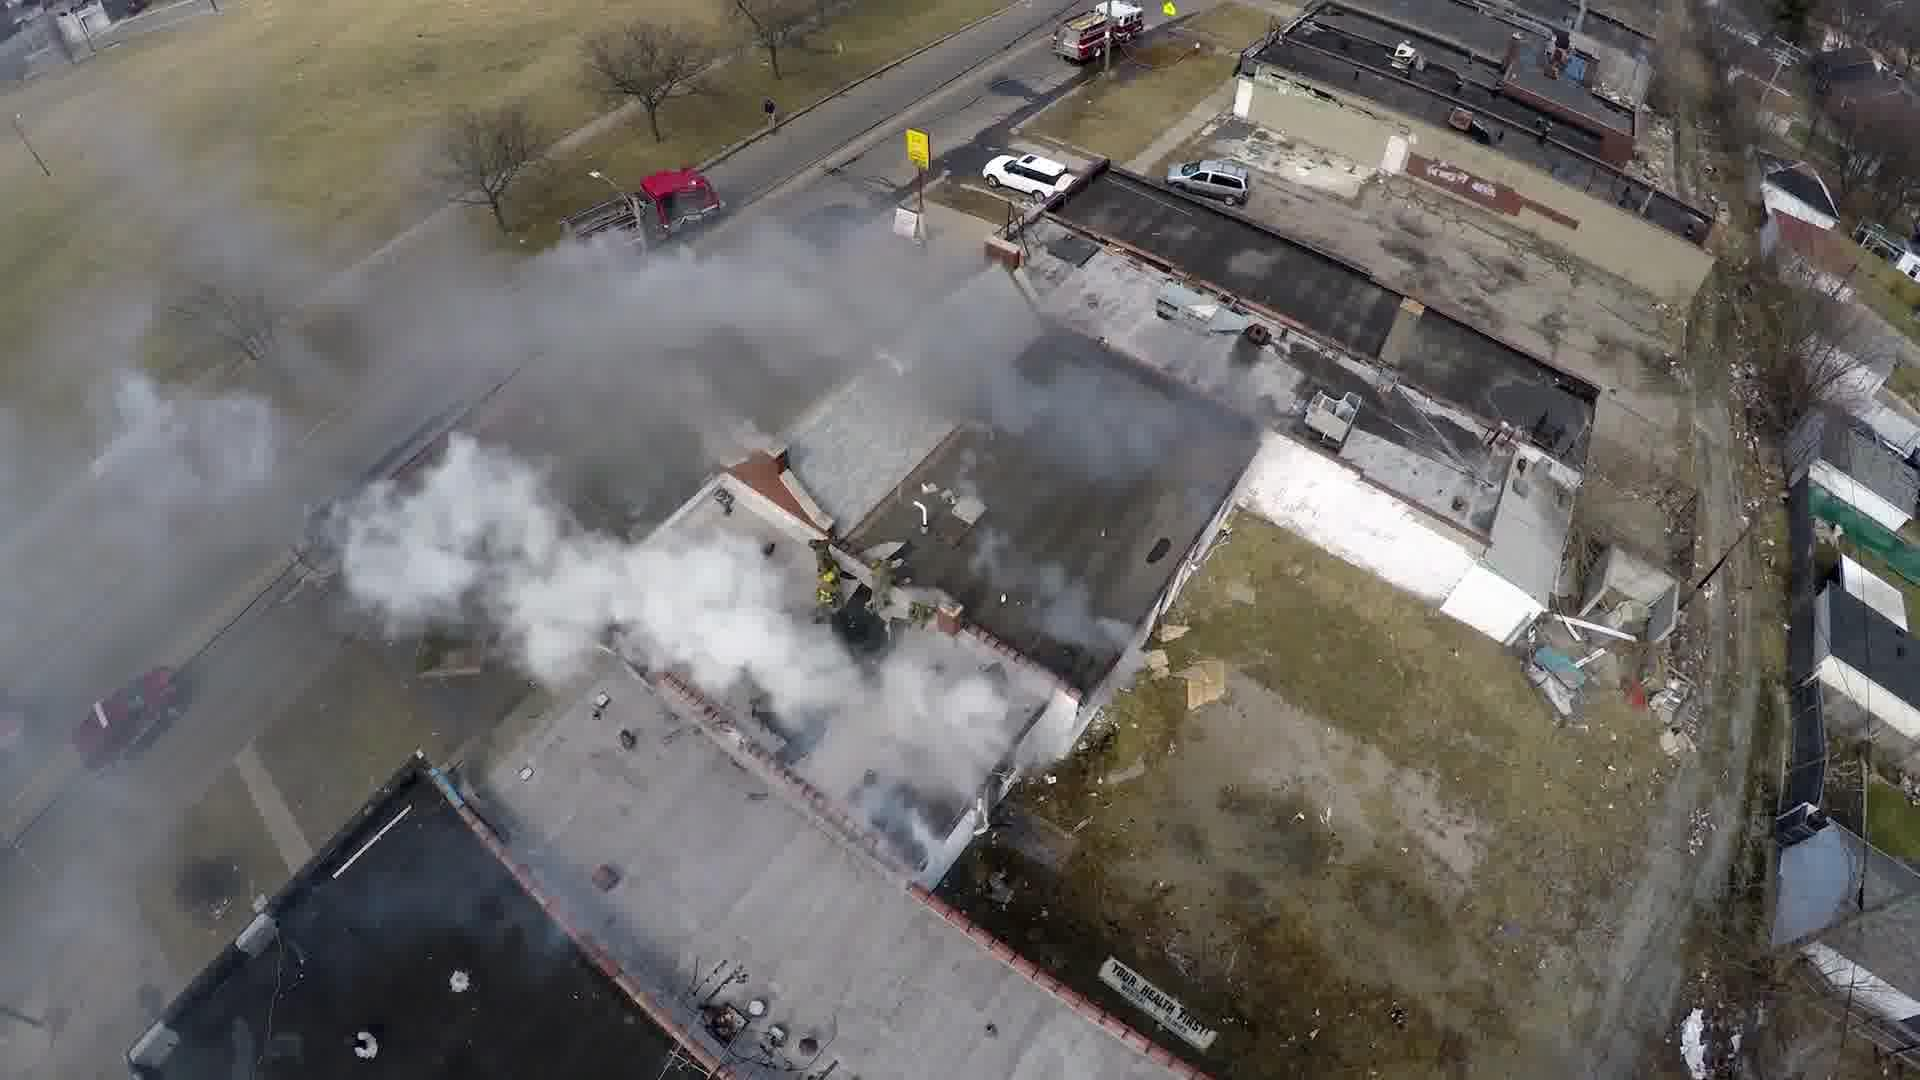smoke: (340, 467, 988, 771), (427, 211, 963, 364), (976, 352, 1171, 462)
